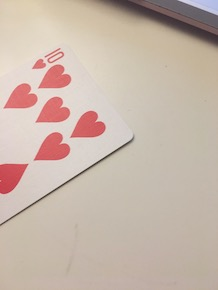TenOfHearts: (1, 40, 140, 224)
